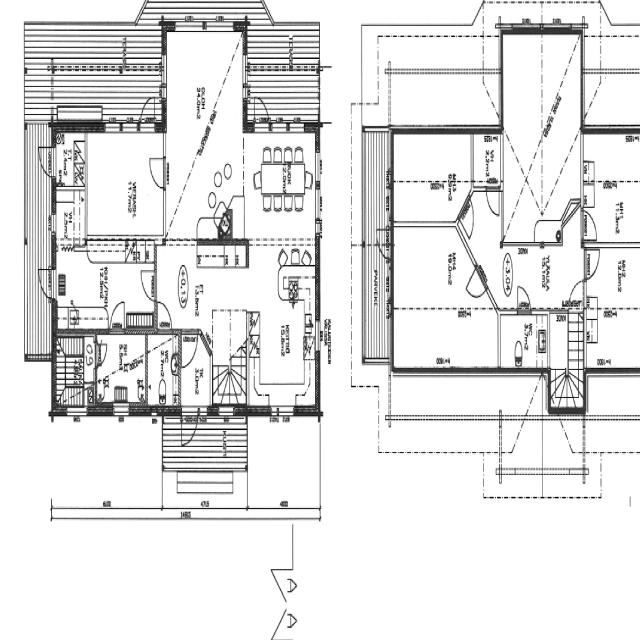door: (458, 195, 480, 241), (454, 266, 486, 290), (182, 405, 197, 447), (37, 269, 57, 299), (37, 147, 57, 177), (140, 92, 155, 132), (255, 92, 269, 133), (139, 270, 157, 301), (182, 329, 197, 366), (110, 298, 125, 335), (376, 229, 393, 260), (583, 250, 600, 280), (158, 299, 172, 335), (150, 201, 167, 230), (581, 211, 598, 240), (518, 283, 531, 315), (486, 186, 498, 217), (96, 344, 109, 367)
